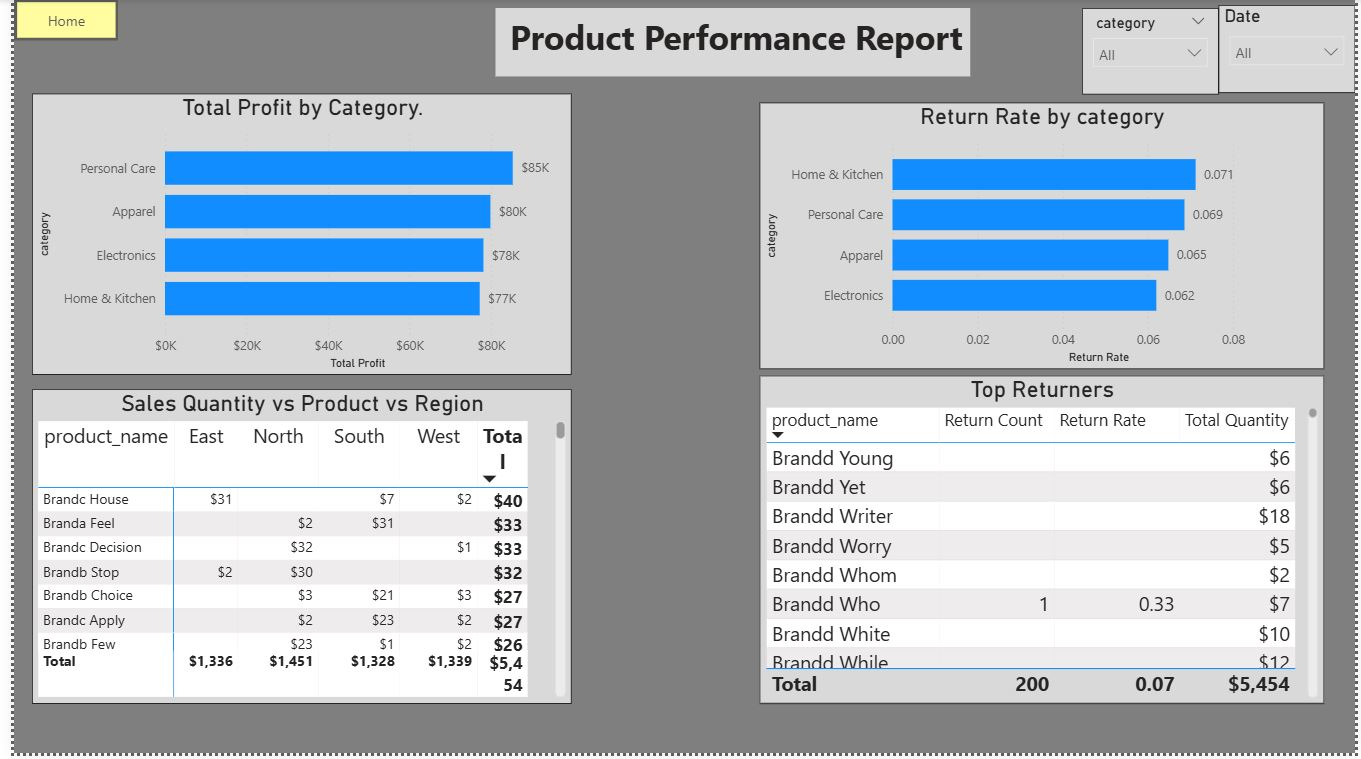

This screenshot's page, from the dashboard's own definition file:
{"tool":"powerbi","page":{"name":"Product Performance Report","canvas":[1280,720],"ordinal":3},"visuals":[{"type":"barChart","title":"Total Profit by Category.","fields":{"Category":["products_cleaned.category"],"Y":["sales_cleaned.Total Profit"]},"box":[17.5,90.7,515.4,268.8],"z":0},{"type":"clusteredBarChart","fields":{"Category":["products_cleaned.category"],"Y":["customers_cleaned.Return Rate"]},"box":[712.6,98.6,539.2,254.5],"z":1000},{"type":"pivotTable","title":"Sales Quantity vs Product vs Region","fields":{"Rows":["products_cleaned.product_name"],"Columns":["customers_cleaned.region"],"Values":["sales_cleaned.Total Quantity"]},"box":[17.5,372.2,515.4,300.6],"z":2000},{"type":"tableEx","title":"Top Returners","fields":{"Values":["products_cleaned.product_name","customers_cleaned.Return Count","customers_cleaned.Return Rate","sales_cleaned.Total Quantity"]},"box":[712.6,359.5,539.2,313.4],"z":3000},{"type":"slicer","title":"Date","fields":{"Values":["sales_cleaned.order_date.Variation.Date Hierarchy.Year","sales_cleaned.order_date.Variation.Date Hierarchy.Quarter","sales_cleaned.order_date.Variation.Date Hierarchy.Month"]},"box":[1150,6.4,130.4,84.3],"z":4000},{"type":"slicer","fields":{"Values":["products_cleaned.category"]},"box":[1019.6,8,130.4,82.7],"z":5000},{"type":"textbox","box":[459.7,8,453.3,65.2],"z":6000},{"type":"actionButton","box":[0,0,100,40],"z":7000}]}

Visuals, with their boxes in screenshot pixels (x1, y1, x2, y2), scaled from the page's 1280x720 canvas onto the 1361x759 screenshot:
"Total Profit by Category." barChart: l=19, t=96, r=567, b=379
clusteredBarChart - products_cleaned.category x customers_cleaned.Return Rate: l=758, t=104, r=1331, b=372
"Sales Quantity vs Product vs Region" pivotTable: l=19, t=392, r=567, b=709
"Top Returners" tableEx: l=758, t=379, r=1331, b=709
"Date" slicer: l=1223, t=7, r=1360, b=96
slicer - products_cleaned.category: l=1084, t=8, r=1223, b=96
textbox: l=489, t=8, r=971, b=77
actionButton: l=0, t=0, r=106, b=42
